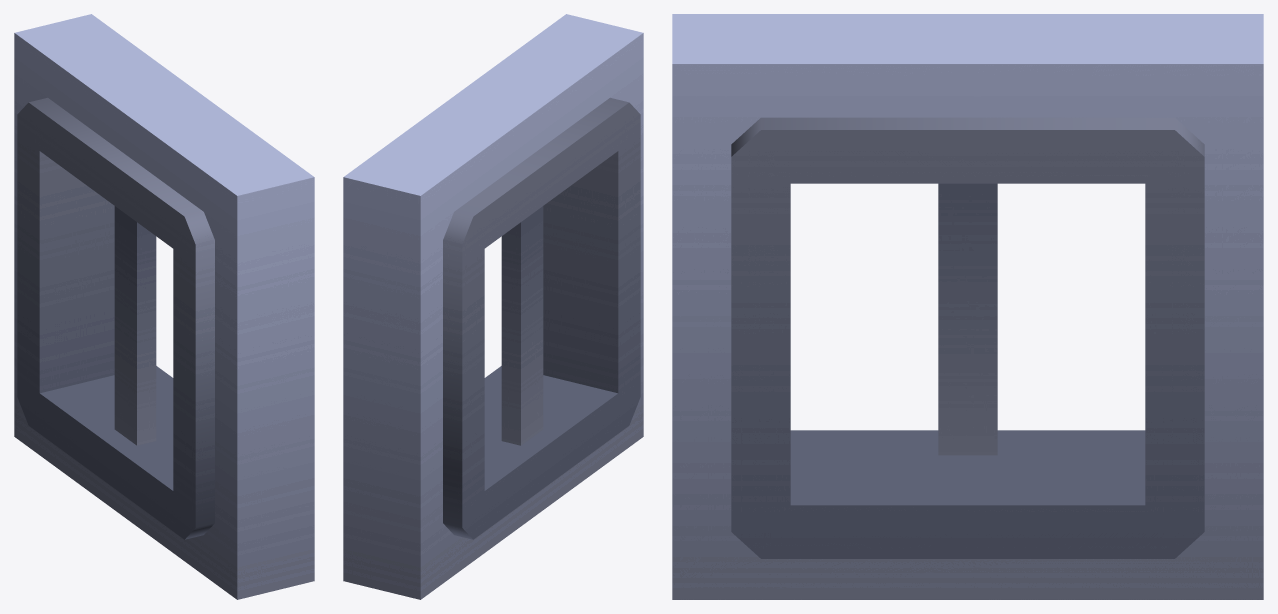
The model's file is wall-window-barred-large.glb.
3 renders of one model, left to right at view 1: azimuth 30°, elevation 25°; view 2: azimuth 150°, elevation 25°; view 3: azimuth 270°, elevation 25°, orthographic. The views are drawn at different scales.
Visible parts, largest first — view 1: wall-window-barred-large; view 2: wall-window-barred-large; view 3: wall-window-barred-large.
Boxes of the visible parts, x1,y1,x2,y2 form: wall-window-barred-large: (14,14,314,599); wall-window-barred-large: (343,14,643,599); wall-window-barred-large: (672,14,1263,599).
Bounding box in the file's own units: 0.3 × 1 × 1.
1 material, 1 textured.
